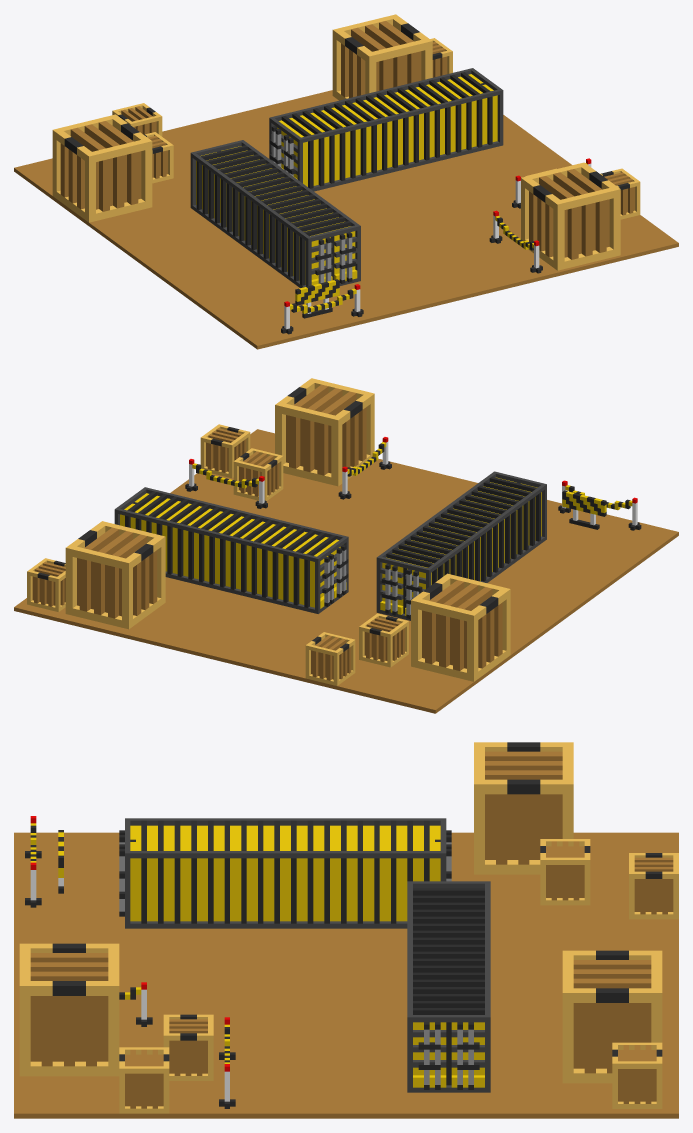
Rendered from Scene_Construction_Raw.obj.
3 views of the same model, one above another, from view 1: azimuth 30°, elevation 25°; view 2: azimuth 150°, elevation 25°; view 3: azimuth 270°, elevation 25° (orthographic). The views are drawn at different scales.
Size of the model in its own units: 120 by 19 by 120.
